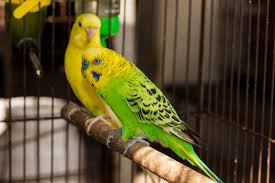budgie: (79, 45, 214, 168), (68, 10, 103, 47)
